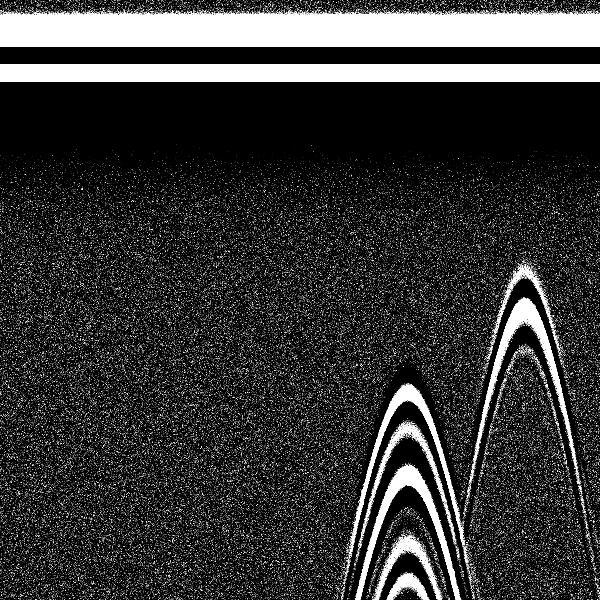pipe: (359, 5, 454, 463), (482, 5, 567, 369)
